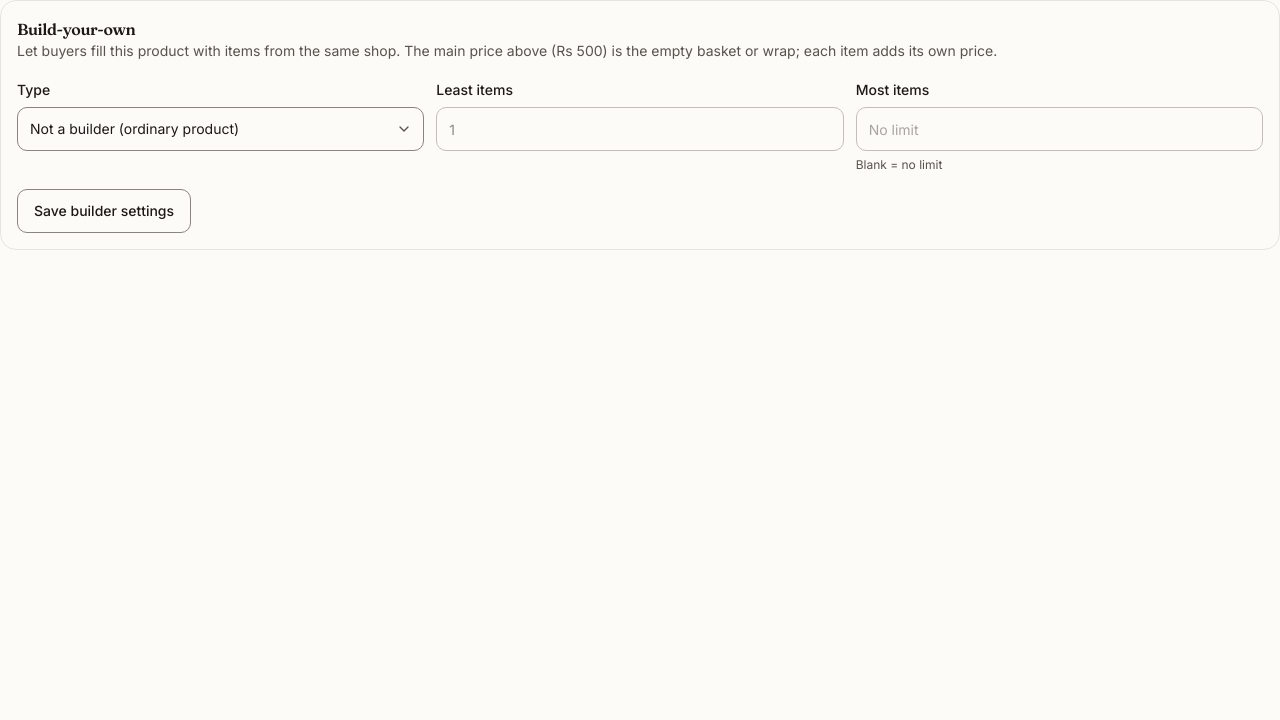
BuilderEditor › turns an ordinary product into a bouquet builder
The image size is (1280, 720).
Step 1. Select "Bouquet" in the dropdown labelled "Type" → (221, 129), box x1=17 y1=107 x2=424 y2=151
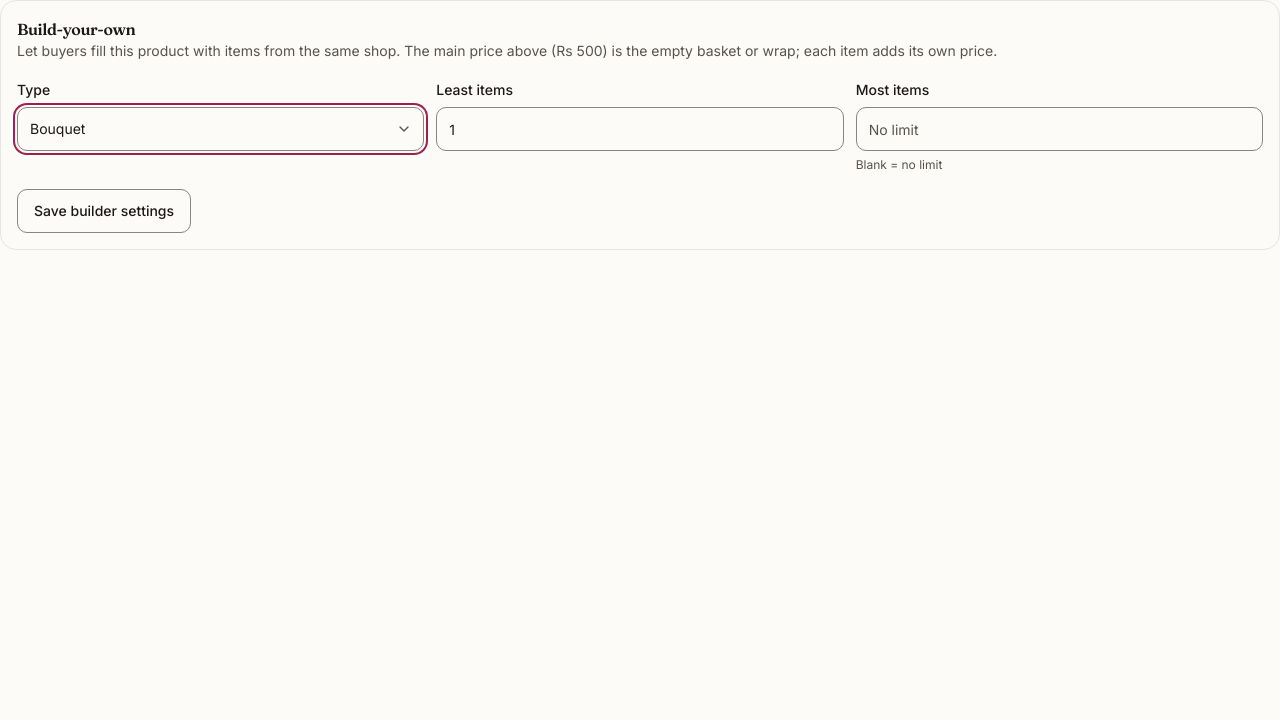
Step 2. Replace the text in the field labelled "Least items" with "3" → (640, 129), box x1=436 y1=107 x2=844 y2=151
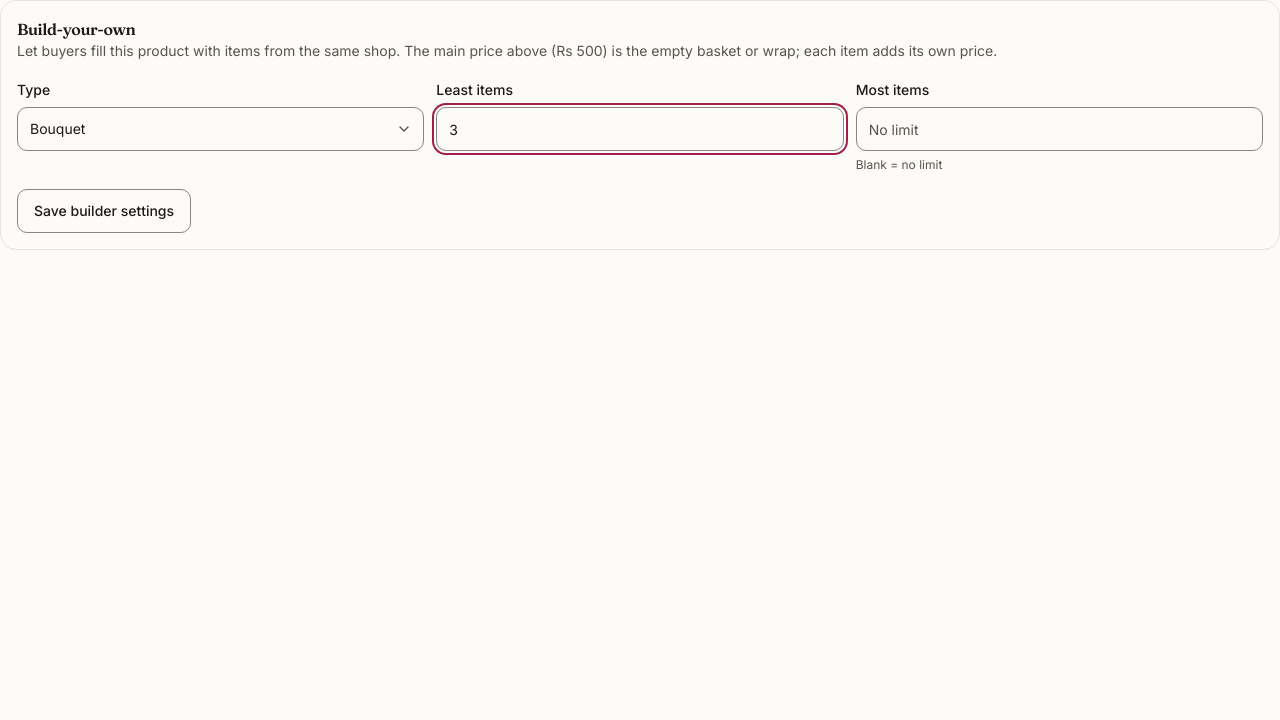
Step 3. Type "24" into the field labelled "Most items" → (1059, 129), box x1=856 y1=107 x2=1263 y2=151
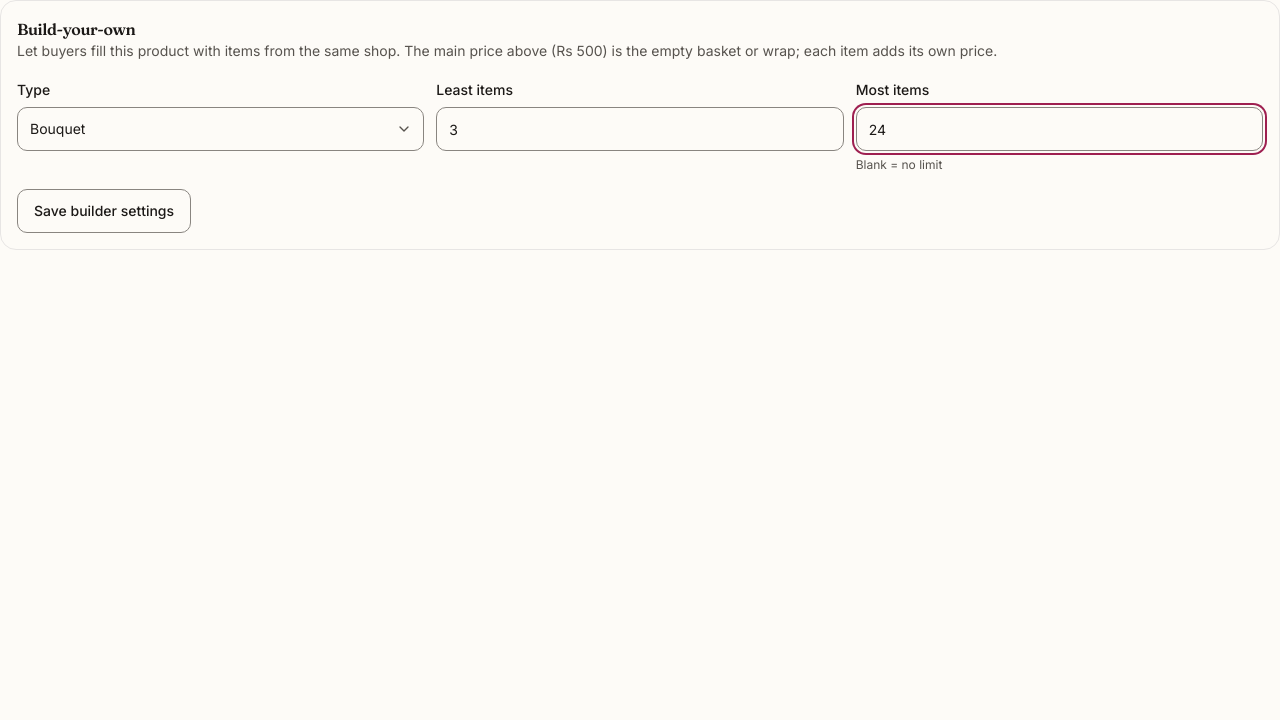
Step 4. Click the button "Save builder settings" → (104, 211), box x1=17 y1=189 x2=191 y2=233
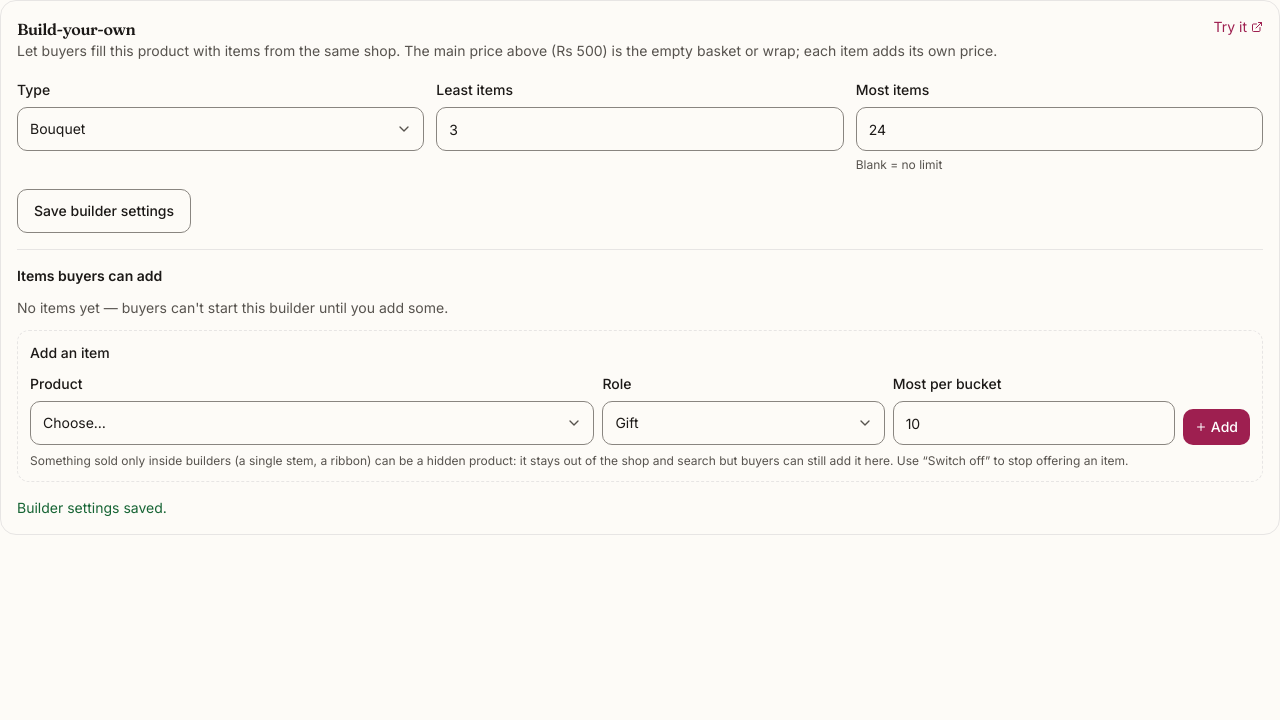
Check: the text "Builder settings saved." is shown, box x1=17 y1=499 x2=167 y2=516
